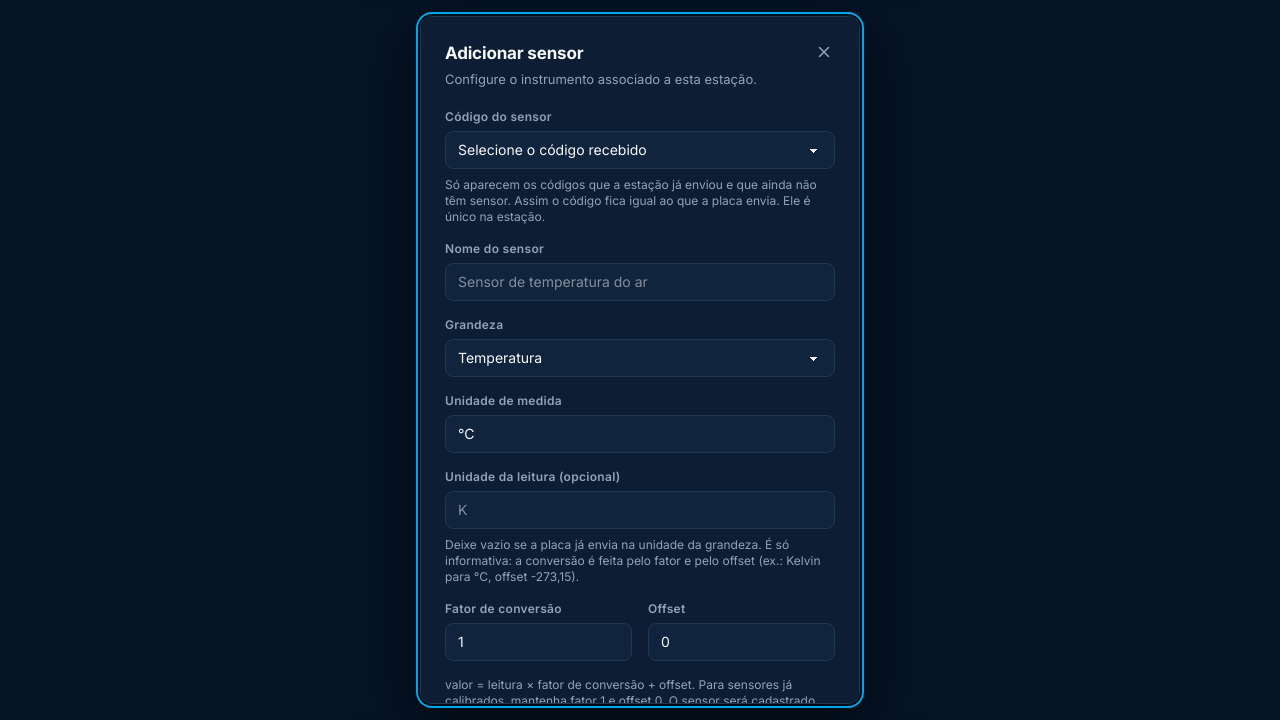
Scenario: SensorCreateModal: código do sensor (US-39) › exige o código, que é o que a placa envia: sem escolher um, o cadastro não segue
Expected: the dropdown labelled "Grandeza" is enabled, x1=445 y1=339 x2=835 y2=377
In the field labelled "Nome do sensor": (640, 282) x1=445 y1=263 x2=835 y2=301, type "Sensor sem código"
(page scrolled)
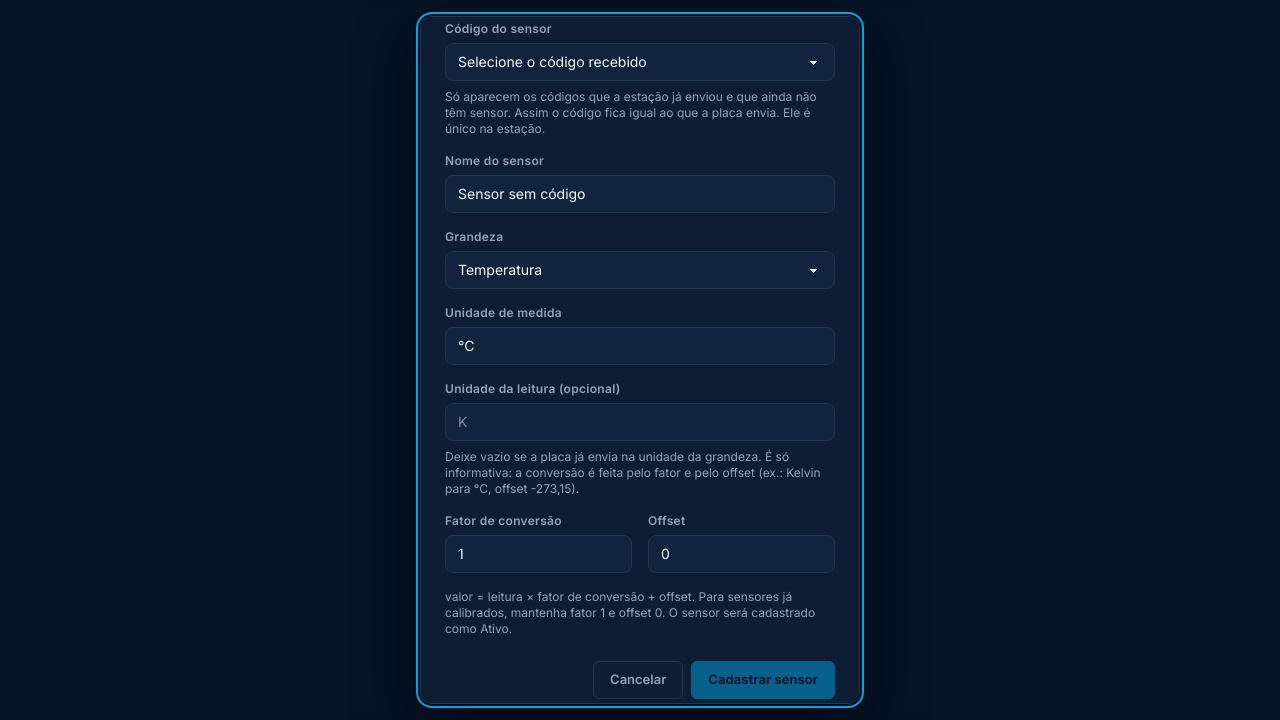
Result: the button "Cadastrar sensor" is disabled at x1=691 y1=661 x2=835 y2=698
Submit the form named "cadastrar sensor", box x1=445 y1=21 x2=835 y2=698
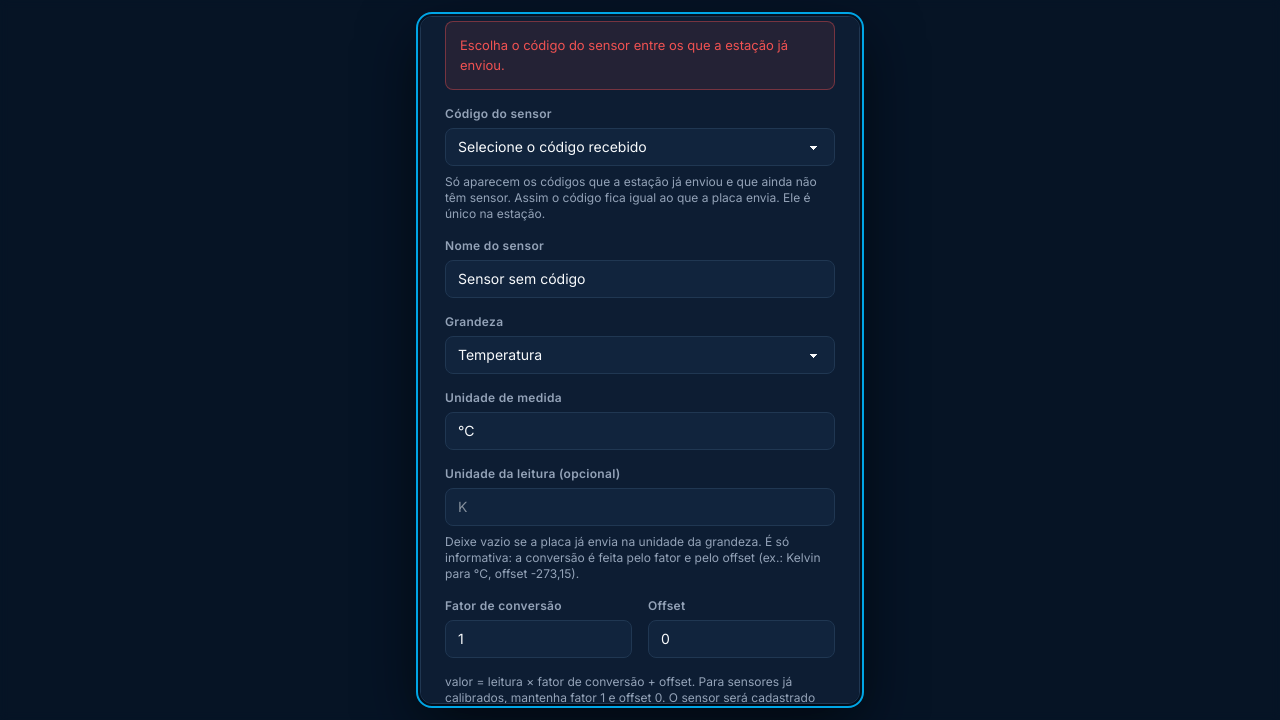
Expected: the text "assim o código fica igual ao que a placa envia" is shown, x1=445 y1=174 x2=817 y2=221
Result: the message shows "Escolha o código do sensor entre os que a estação já enviou" at x1=460 y1=37 x2=788 y2=72
